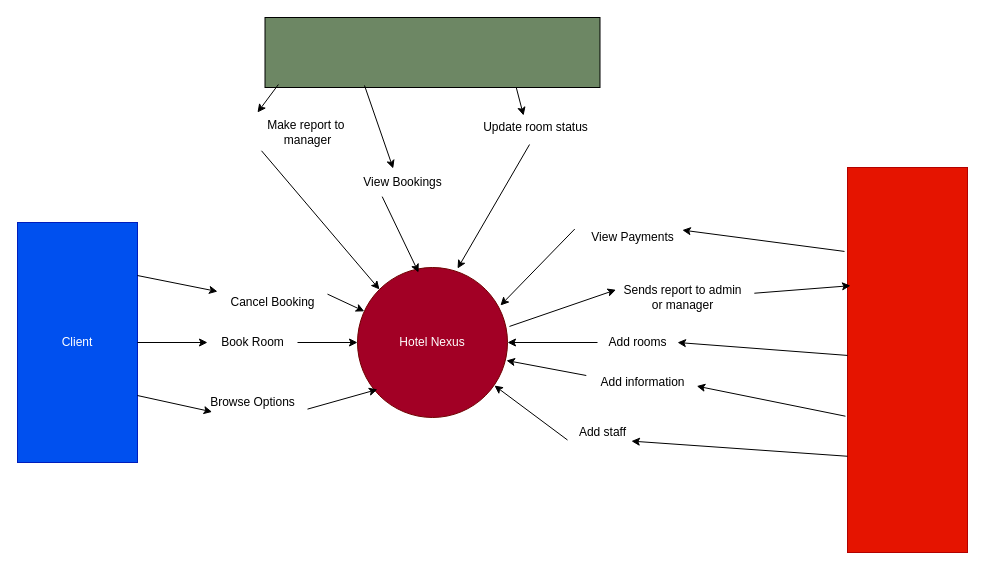
This 985x570 diagram has some shape labels left out. The shapes that lost their labels are listed below. From the top down, each one's box as (x1, y1, x2, y2) in pixels, then its label:
(264, 16, 600, 88): Hotel Staff
(846, 166, 968, 552): Hotel Admin/Manager
